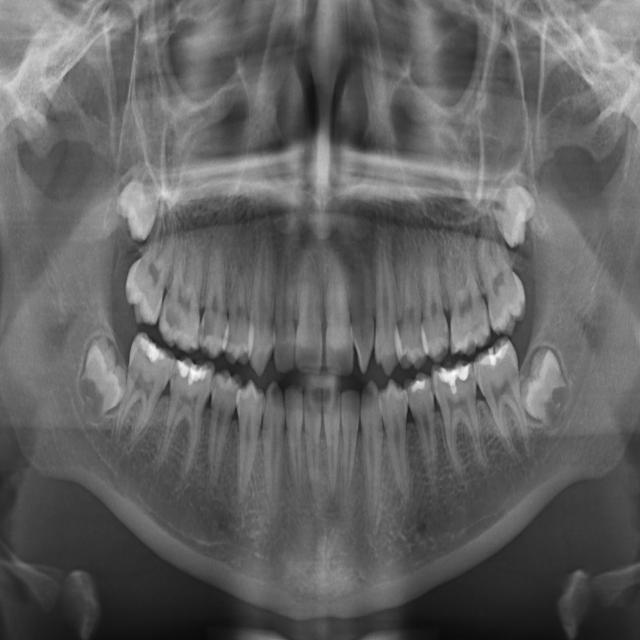CompositeResinRestoration: (477, 339, 509, 374), (140, 336, 166, 375), (438, 364, 470, 394), (174, 358, 208, 386), (412, 372, 432, 400)
DentalCaries: (163, 313, 183, 337), (440, 319, 451, 348), (217, 327, 231, 349), (198, 319, 209, 346), (170, 368, 180, 394), (211, 379, 221, 405), (128, 345, 142, 363), (423, 379, 435, 400)
